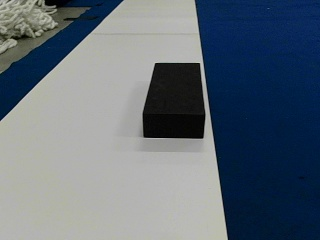block: (144, 62, 206, 137)
